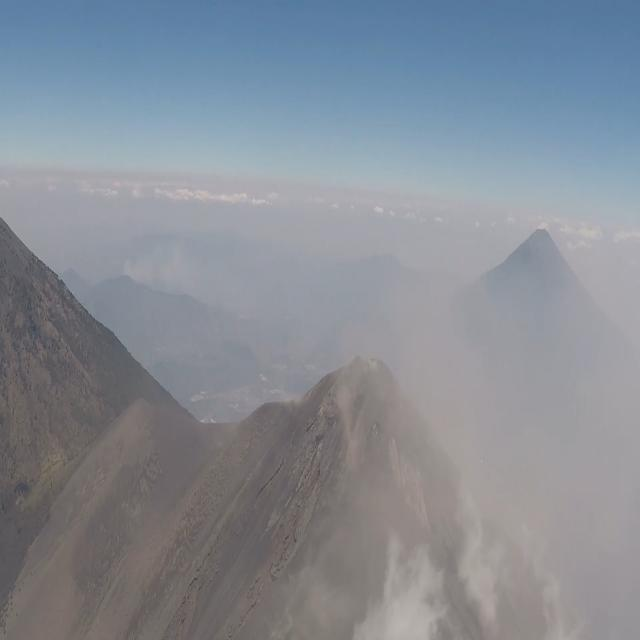Summit: (241, 348, 482, 531)
